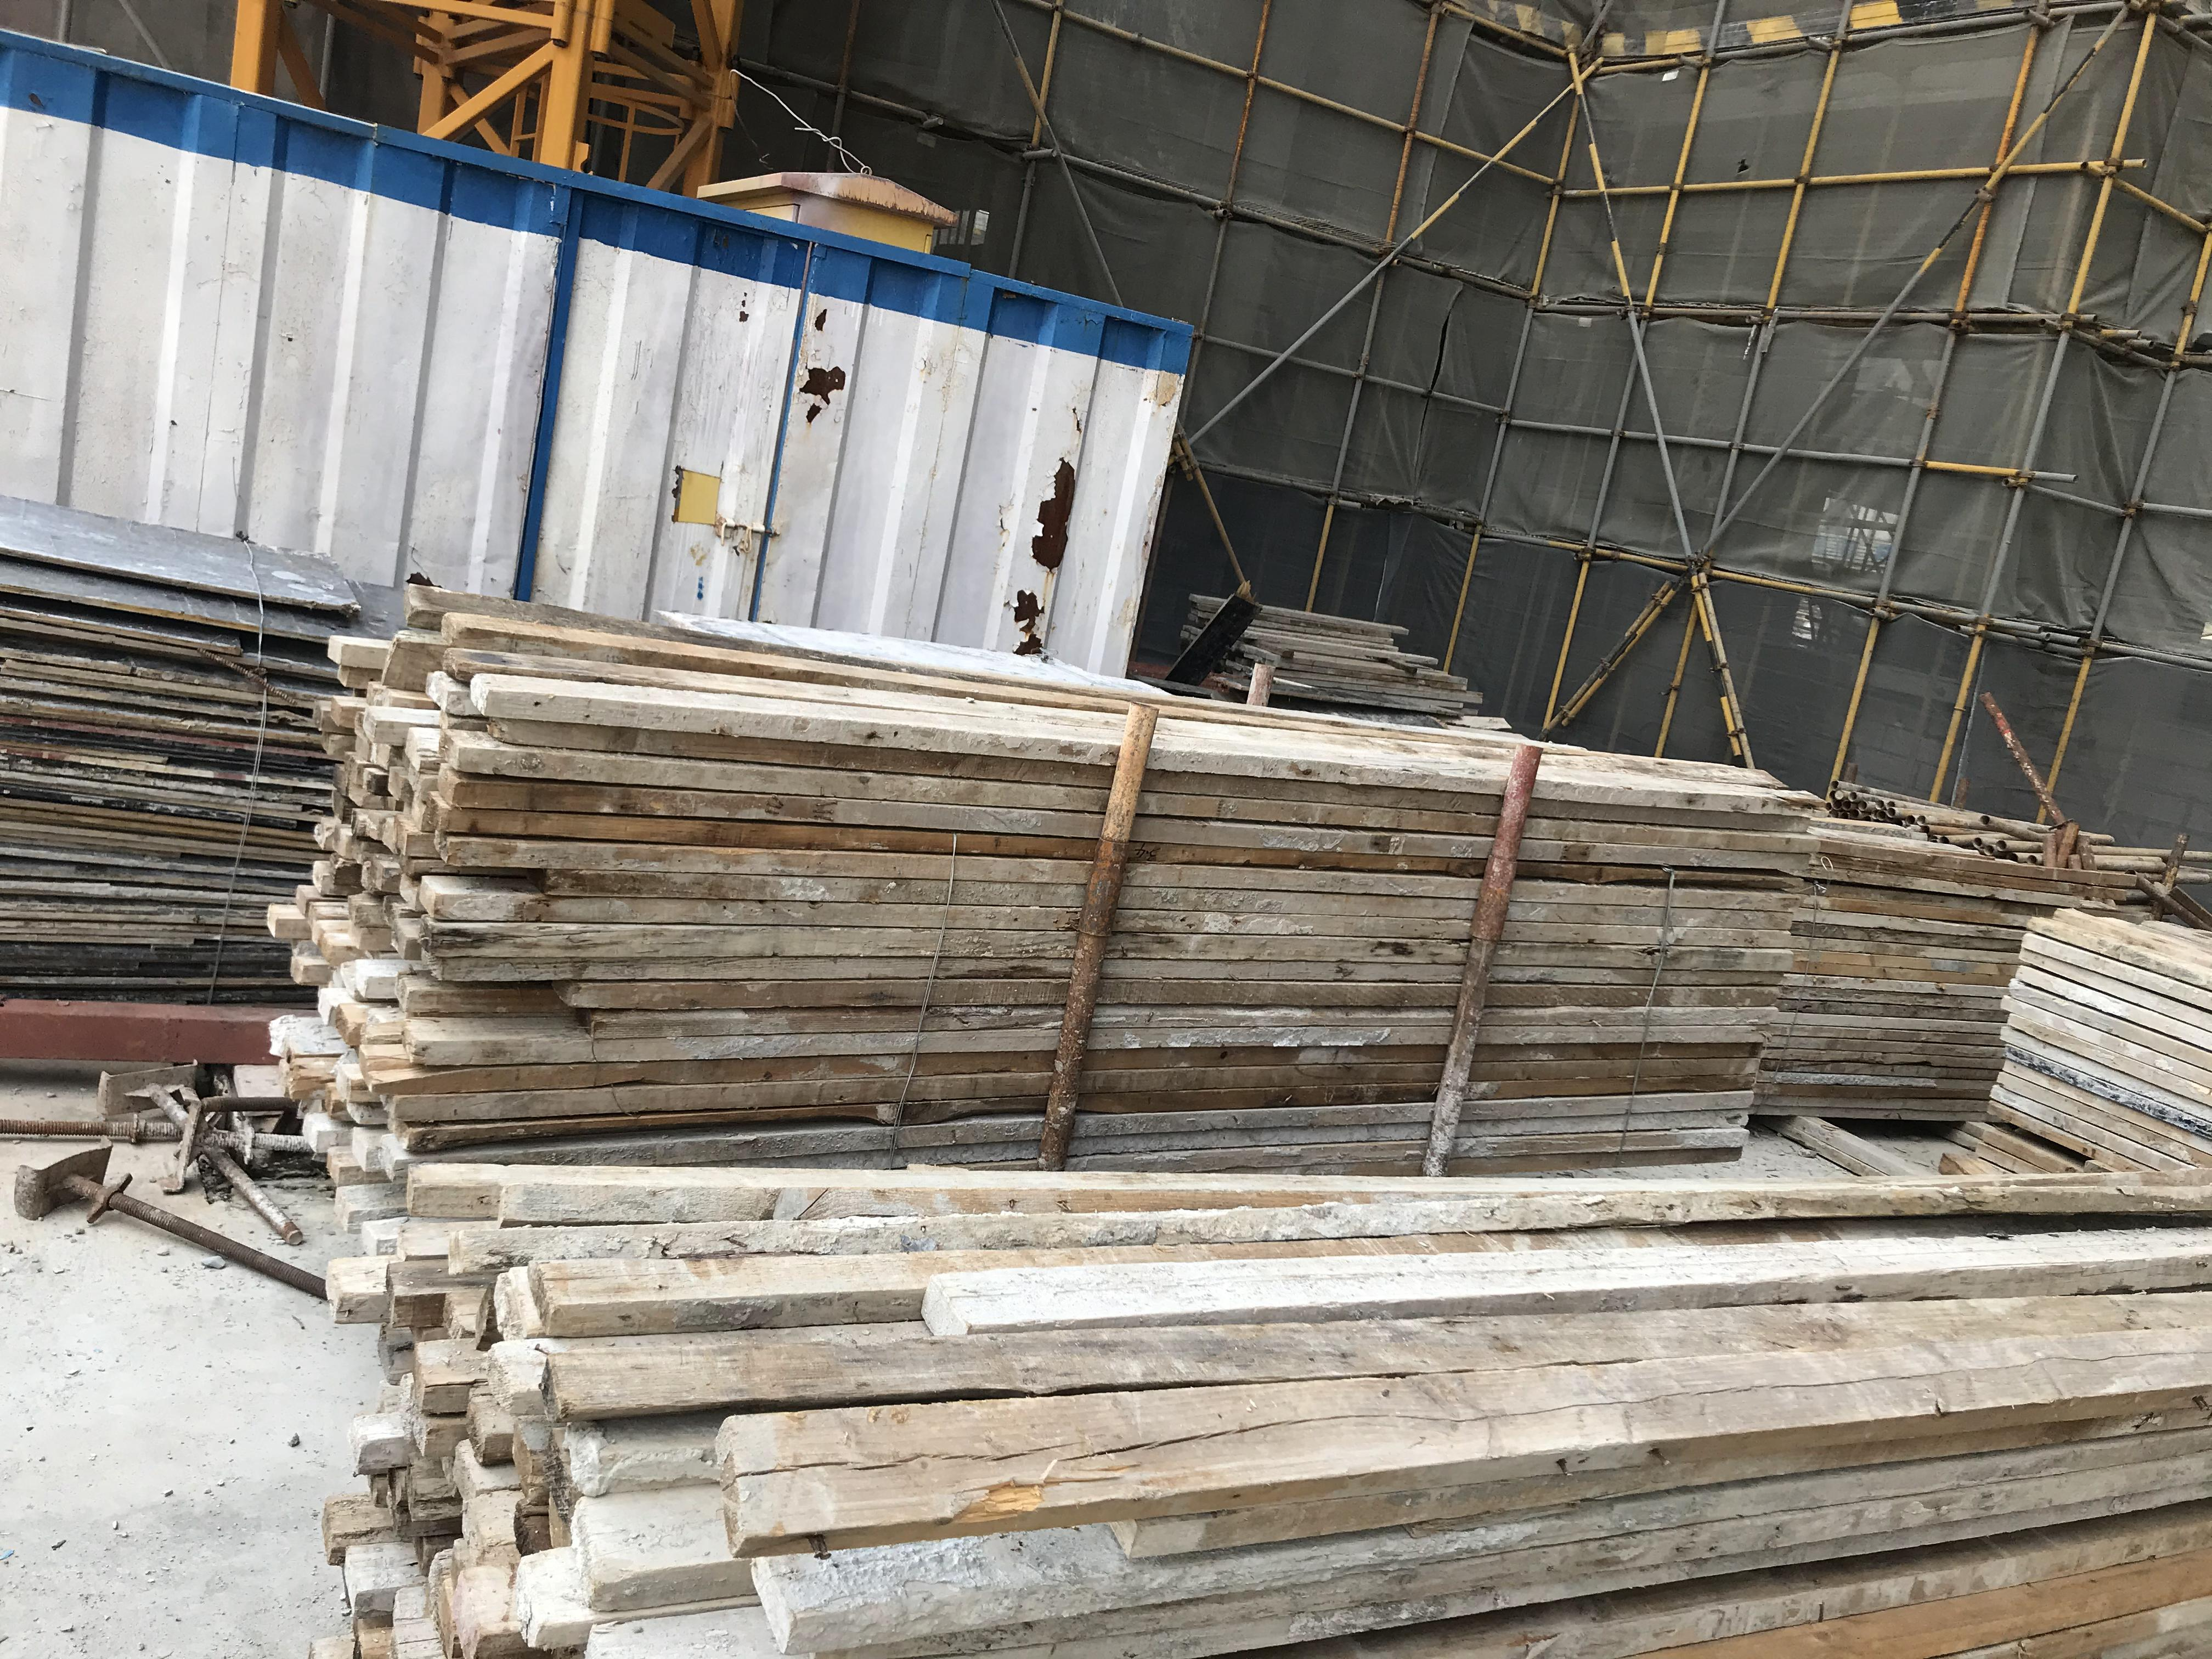board: (0, 495, 336, 993)
scaffold: (1832, 781, 2177, 871)
wood: (343, 1185, 2212, 1659), (280, 699, 1794, 1279), (1975, 899, 2212, 1188), (1190, 591, 1480, 721)
